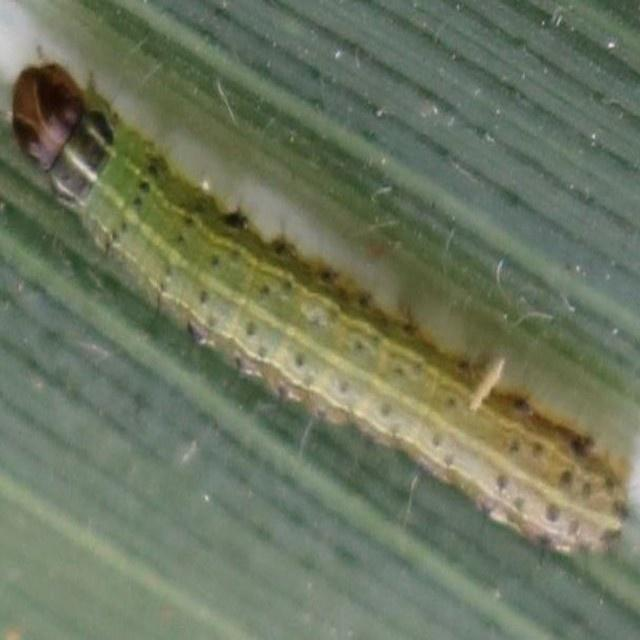gusano_cogollero: (11, 56, 632, 558)
